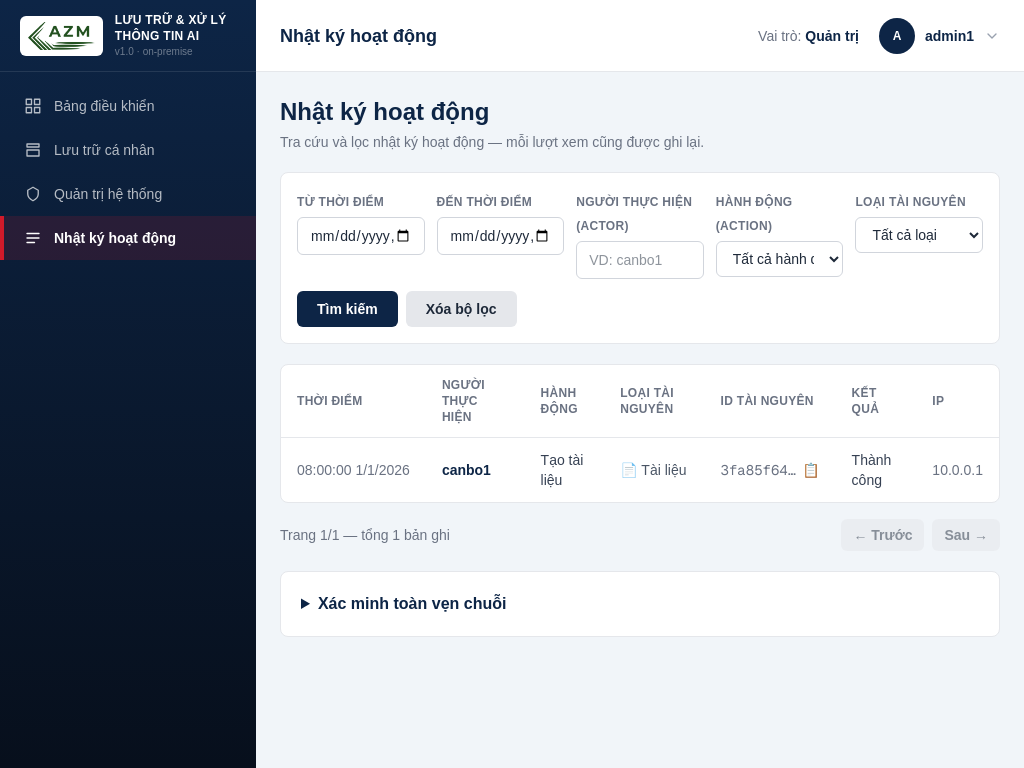
Test: AuditAdminPage › expands a row to show mã hành động, labeled metadata, and toggles the raw JSON
The image size is (1024, 768).
Expected: the text "Method/Path" is not shown
Click the text "Tạo tài liệu" at (564, 470), box [525,438,604,502]
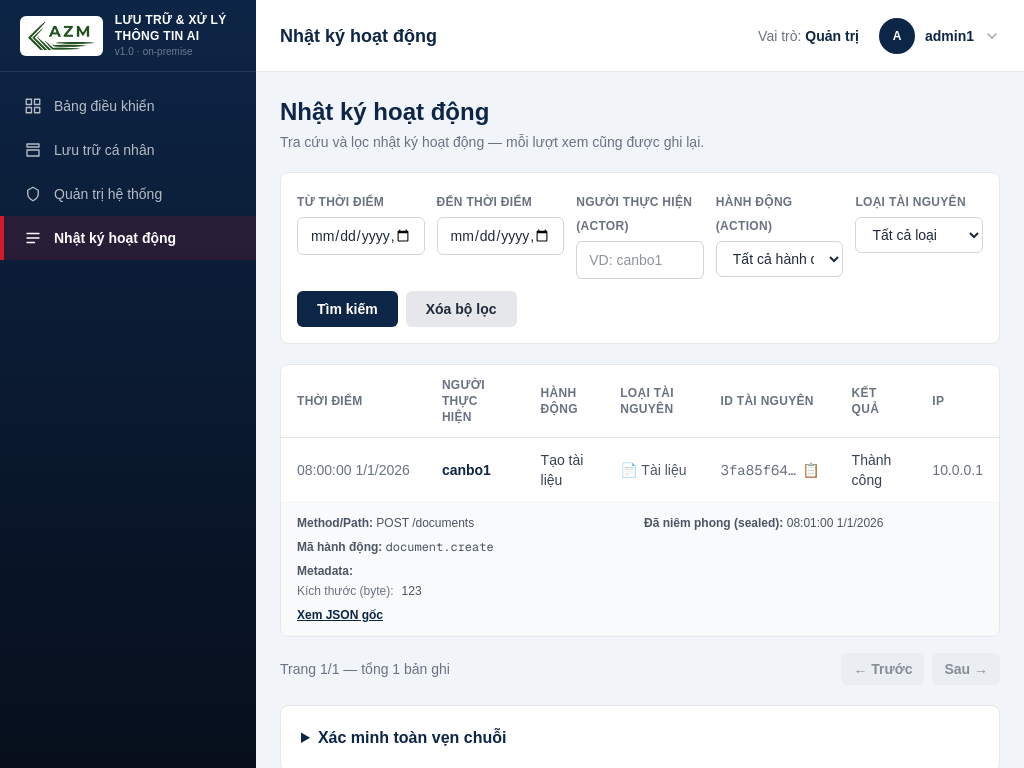
Result: the text "Method/Path:" is shown at [297,516,373,530]
Result: the text "Method/Path: POST /documents" is shown at [297,516,474,530]
Result: the text "Mã hành động:" is shown at [297,540,382,554]
Click the button "Xem JSON gốc" at (340, 615), box [297,607,383,623]
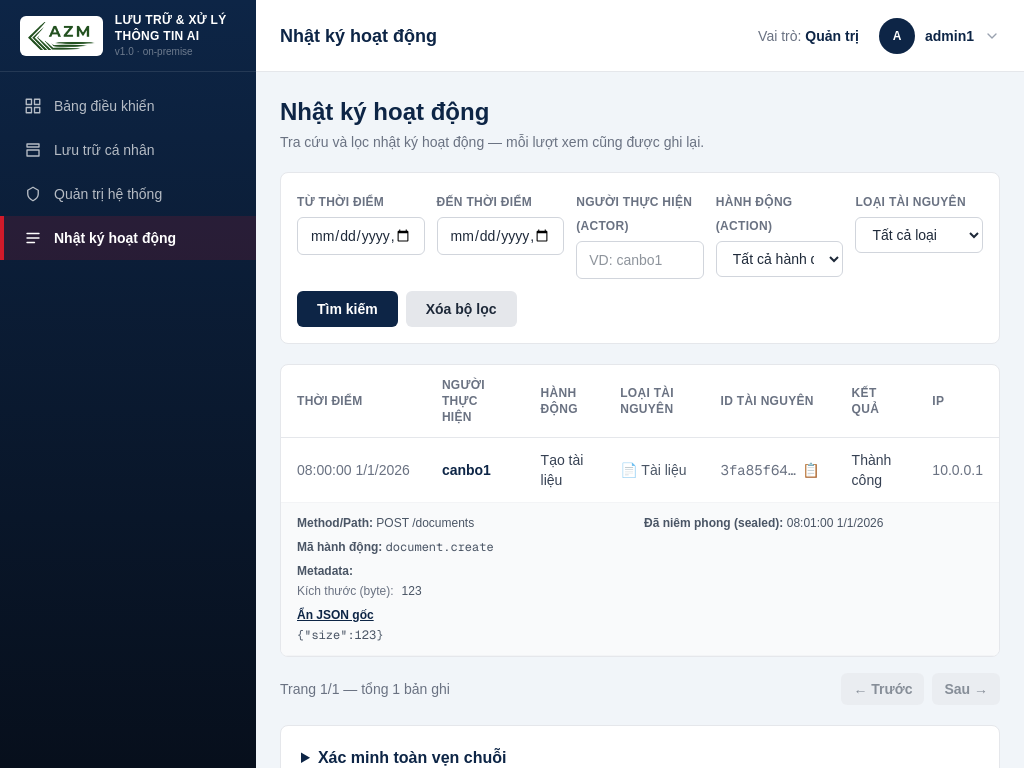
Result: the text "{\"size\":123}" is shown at [297,627,383,643]
Click the button "Ẩn JSON gốc" at (335, 615), box [297,607,374,623]
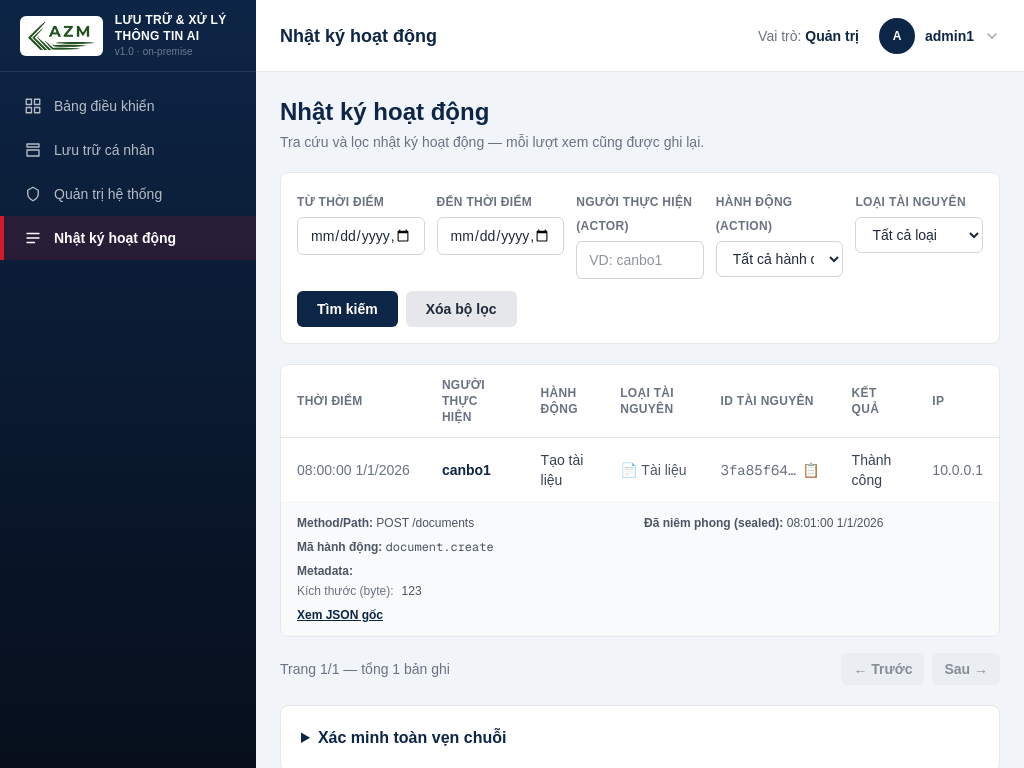
Result: the text "{\"size\":123}" is gone
